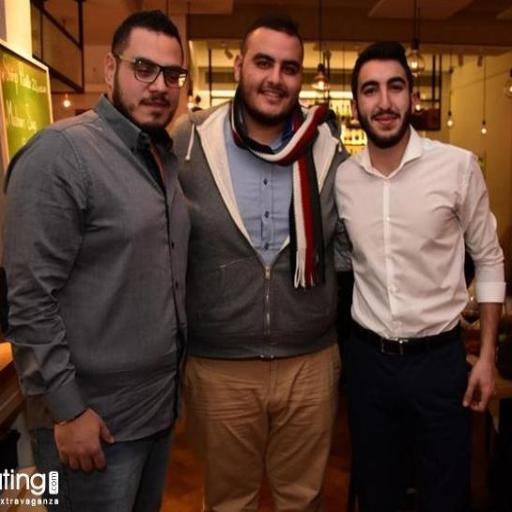person: (3, 11, 189, 511), (173, 15, 345, 511), (336, 43, 505, 511)
